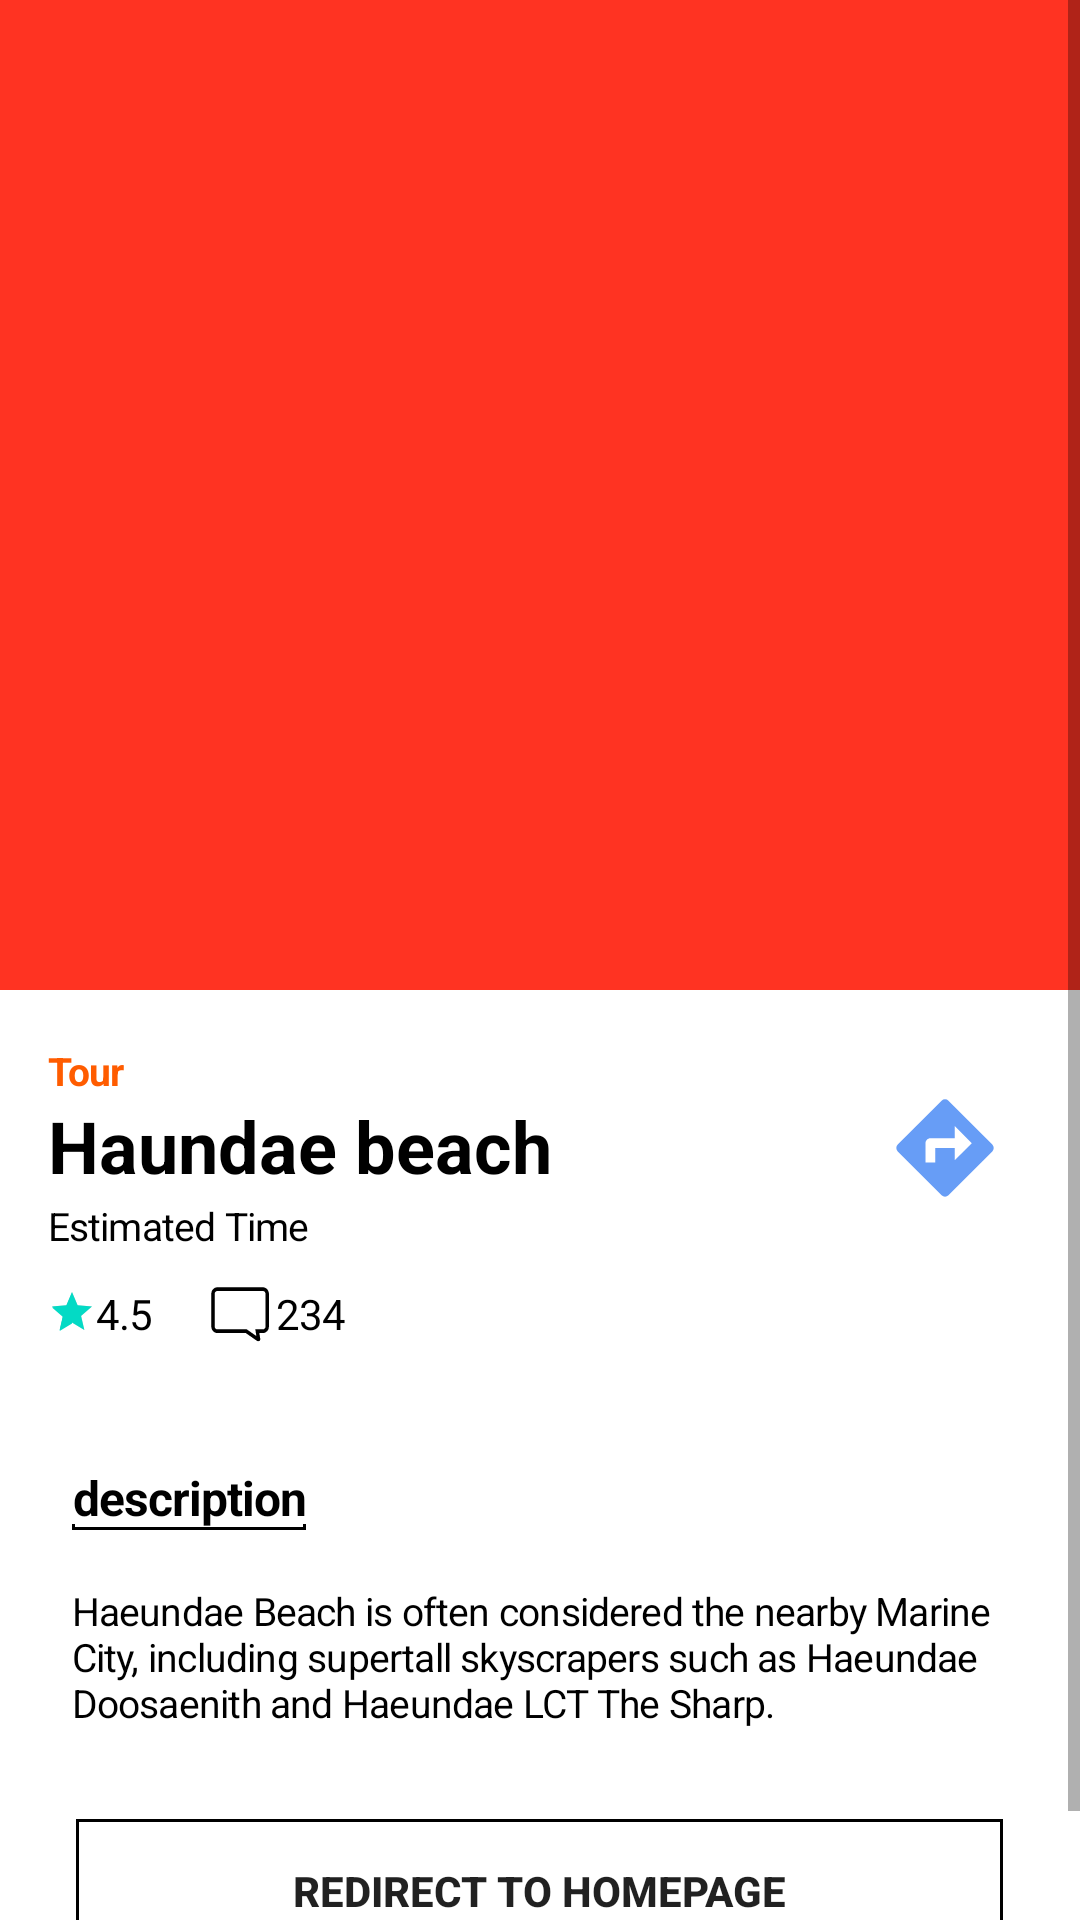

Named icons in this screenshot (1080w x 1920h) and their centers, [x,y]:
comment: [240,1314]
navigation: [945,1148]
